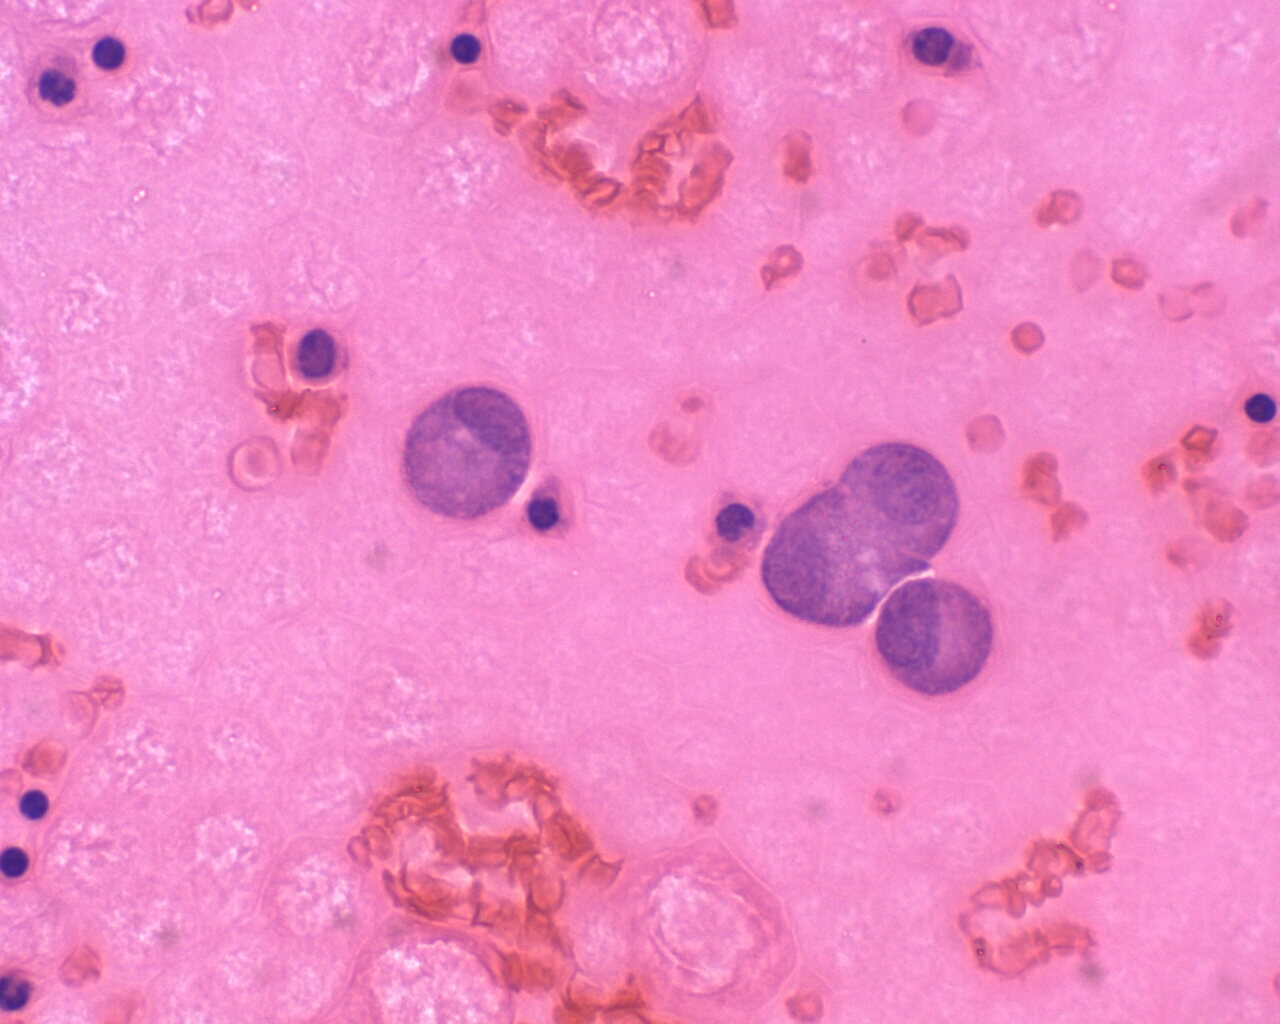ab: (761, 485, 894, 632), (872, 579, 991, 703), (848, 430, 957, 554)
histo: (397, 377, 528, 528)
lymph: (1239, 387, 1280, 432), (18, 786, 59, 827), (448, 26, 487, 69)
